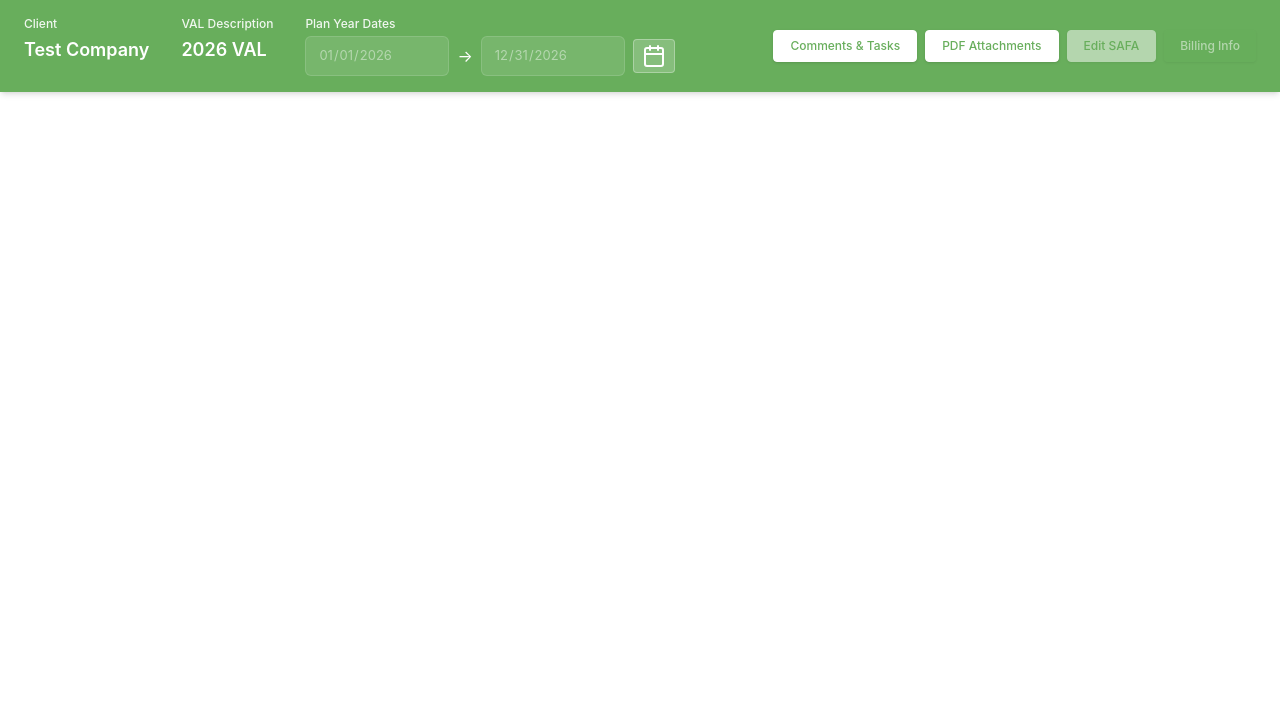
Test: Header › opens CommentsOverview when Comments & Tasks button is clicked
The width and height of the screenshot is (1280, 720).
Click the button "Comments & Tasks". click: (845, 46)
box: [773,30,917,62]
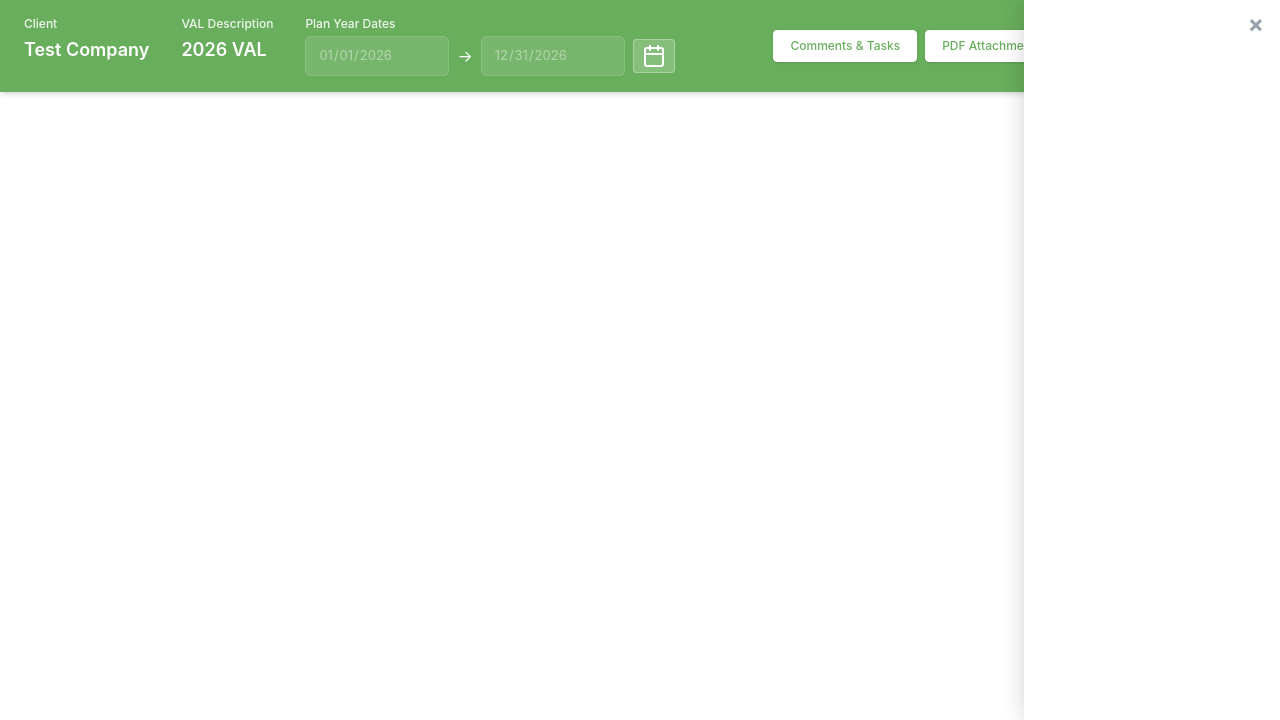
expect the button named "Close" is shown: met, box [1240,8,1272,40]
